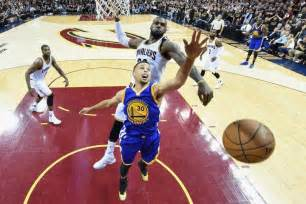basketball: (225, 121, 272, 162)
